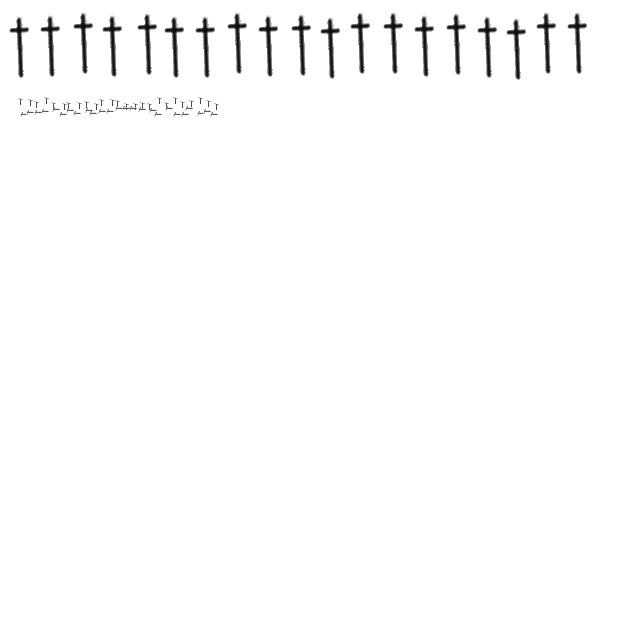enseble_chain: (2, 16, 40, 80), (66, 12, 104, 76), (188, 16, 226, 80), (220, 12, 258, 76), (284, 14, 322, 78), (376, 12, 414, 76), (470, 16, 508, 80), (560, 12, 598, 76), (130, 14, 168, 76), (158, 16, 194, 80), (344, 12, 380, 76), (500, 18, 536, 82), (530, 12, 566, 76), (34, 16, 70, 78), (96, 16, 132, 78), (252, 16, 288, 78), (314, 18, 350, 80), (408, 16, 444, 78), (440, 14, 476, 76), (18, 98, 24, 106), (66, 102, 72, 110), (140, 102, 146, 110), (164, 102, 170, 110), (206, 100, 212, 108), (20, 112, 28, 118), (26, 110, 34, 116), (34, 110, 42, 116), (59, 112, 67, 118), (66, 108, 74, 114), (85, 108, 93, 114), (115, 106, 123, 112), (122, 106, 130, 112), (129, 106, 137, 112), (149, 108, 157, 114), (154, 112, 162, 118), (165, 106, 173, 112), (173, 112, 181, 118), (181, 112, 189, 118), (185, 106, 193, 112), (210, 112, 218, 118), (28, 100, 34, 106), (34, 102, 40, 108), (44, 98, 50, 104), (62, 104, 68, 110), (84, 102, 90, 108), (94, 104, 100, 110), (110, 100, 116, 106), (124, 104, 130, 110), (180, 102, 186, 108), (198, 98, 204, 104), (214, 104, 220, 110), (52, 102, 56, 110), (78, 102, 82, 110), (116, 100, 120, 108), (190, 100, 194, 108), (41, 110, 49, 114), (52, 108, 60, 112), (73, 112, 81, 116), (89, 112, 97, 116), (98, 110, 106, 114), (106, 110, 114, 114), (138, 108, 146, 112), (197, 112, 205, 116), (203, 110, 211, 114), (100, 100, 104, 106), (134, 104, 138, 110), (148, 104, 152, 110), (158, 98, 162, 104), (174, 98, 178, 104)
